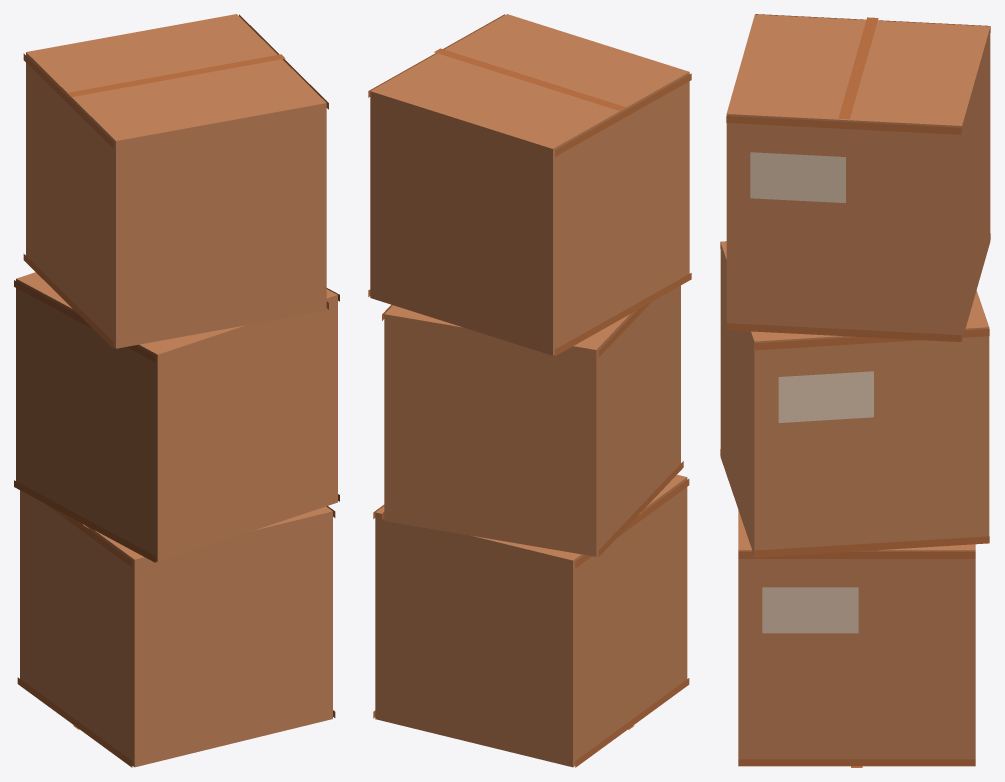
The model's file is SRA_Box_Stack_01.glb.
3 views of the same model, side by side, from view 1: azimuth 30°, elevation 25°; view 2: azimuth 150°, elevation 25°; view 3: azimuth 270°, elevation 25° (orthographic). The views are drawn at different scales.
Parts seen in each view (by area): view 1: Box_Stack_01; view 2: Box_Stack_01; view 3: Box_Stack_01.
Boxes of the visible parts, x1,y1,x2,y2 form: Box_Stack_01: (14, 14, 339, 767); Box_Stack_01: (368, 14, 691, 767); Box_Stack_01: (720, 14, 990, 767).
Size of the model in its own units: 0.3233 by 0.8448 by 0.3192.
Materials: 1 (1 with a texture image).
